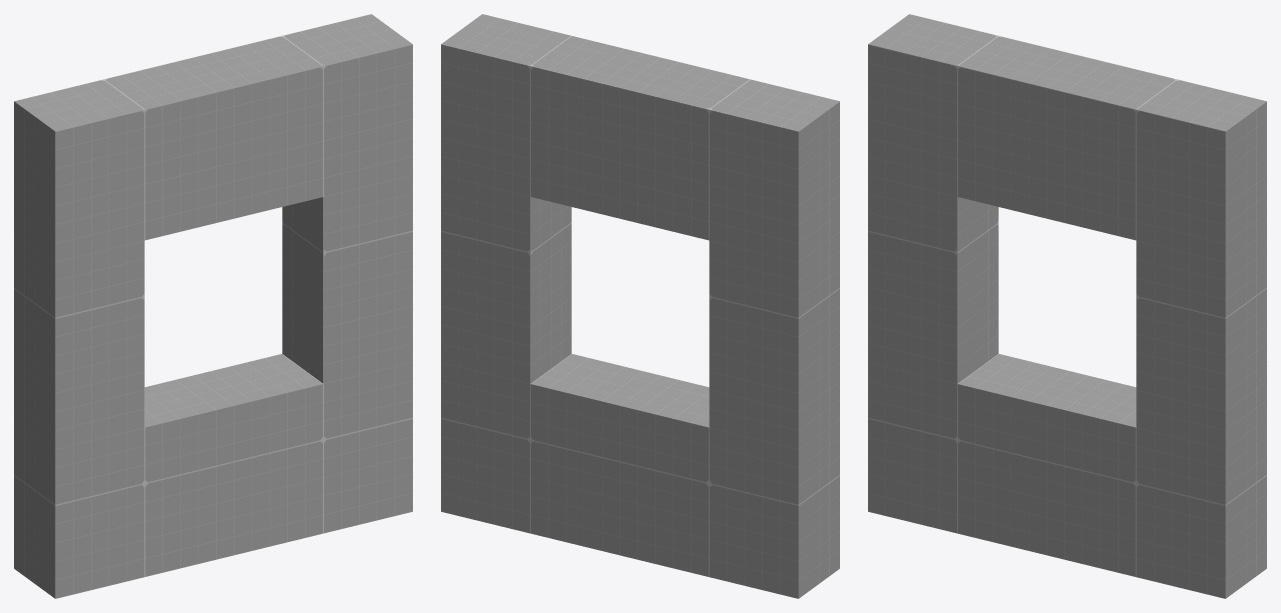
File: Window_1x2_Thick.002.fbx
3 views of the same model, side by side, from view 1: azimuth 30°, elevation 25°; view 2: azimuth 150°, elevation 25°; view 3: azimuth 330°, elevation 25° (orthographic).
Parts seen in each view (by area): view 1: Window_1x2_Thick.002; view 2: Window_1x2_Thick.002; view 3: Window_1x2_Thick.002.
Part boxes in pixels (<box>): Window_1x2_Thick.002: <box>14,14,412,598</box>; Window_1x2_Thick.002: <box>441,14,839,598</box>; Window_1x2_Thick.002: <box>868,14,1266,598</box>.
Bounding box in the file's own units: 200 × 250 × 40.
